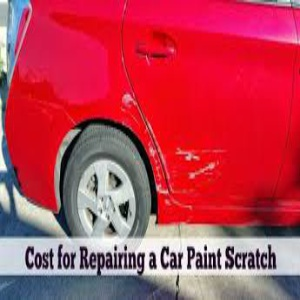door_scratch: (147, 104, 252, 205)
